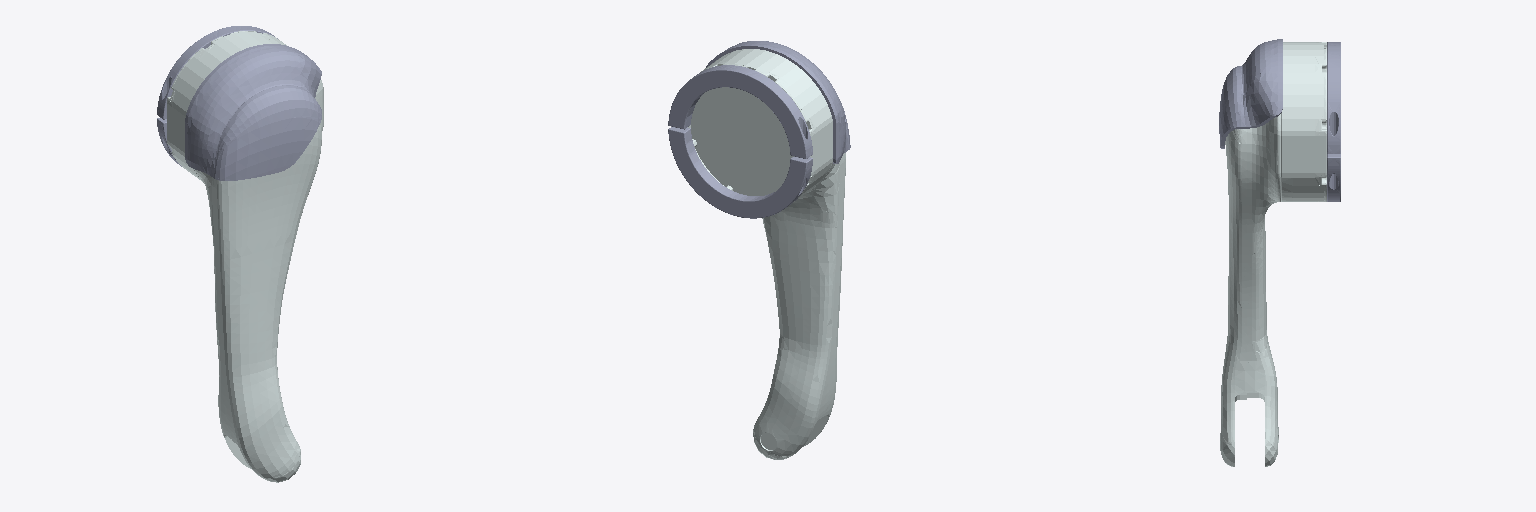
File: thigh_mirror.obj
The picture shows the model from 3 angles: view 1: azimuth 30°, elevation 25°; view 2: azimuth 150°, elevation 25°; view 3: azimuth 270°, elevation 25°; orthographic projection.
Visible parts, largest first — view 1: thigh.FR0815; view 2: thigh.FR0815; view 3: thigh.FR0815.
Boxes of the visible parts, x1,y1,x2,y2 form: thigh.FR0815: [157, 26, 323, 482]; thigh.FR0815: [668, 41, 850, 459]; thigh.FR0815: [1219, 39, 1340, 466].
Size of the model in its own units: 0.0969 by 0.2779 by 0.0734.